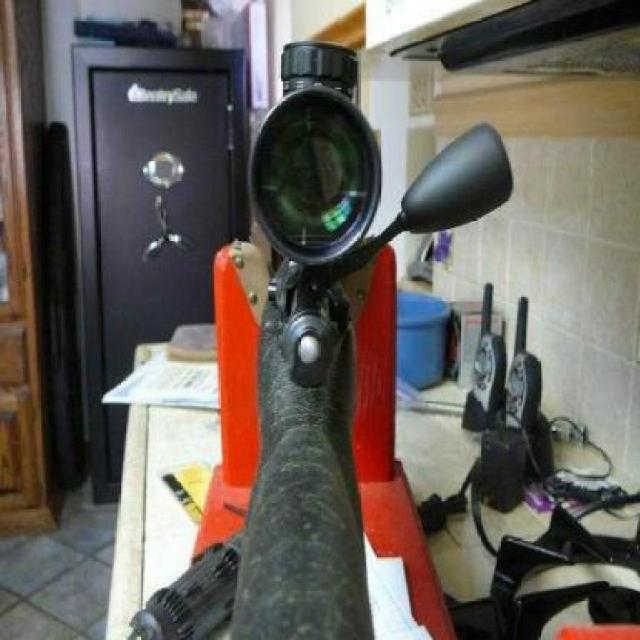weapon: (250, 52, 387, 640)
